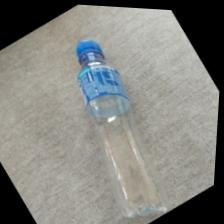glass: (33, 39, 190, 223)
plastic: (19, 22, 196, 223)
